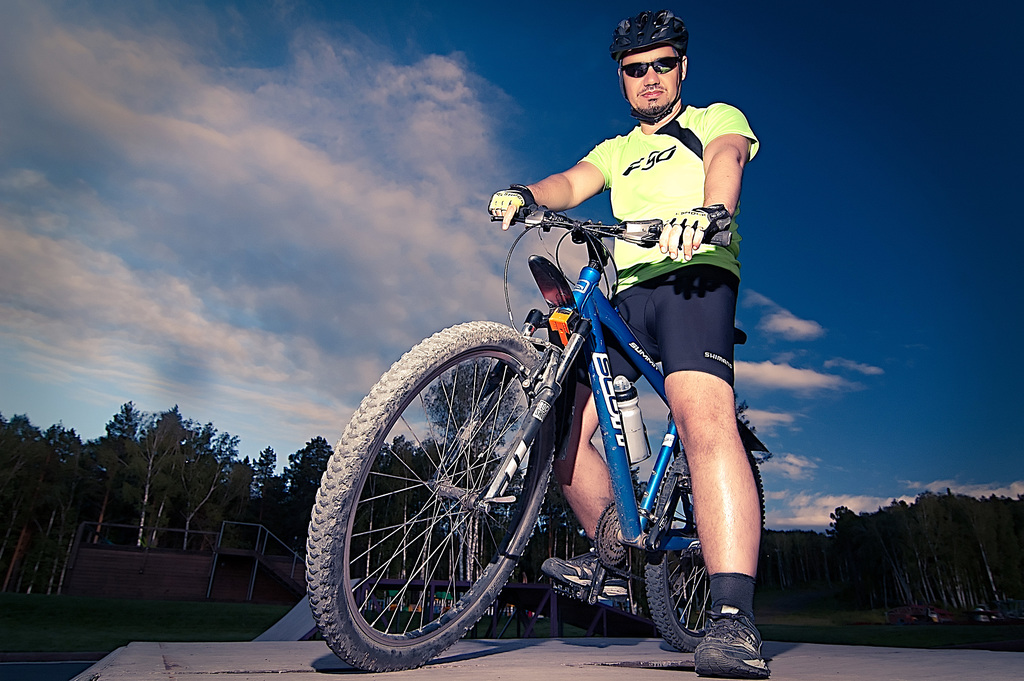Bike_toward: (302, 200, 775, 668)
